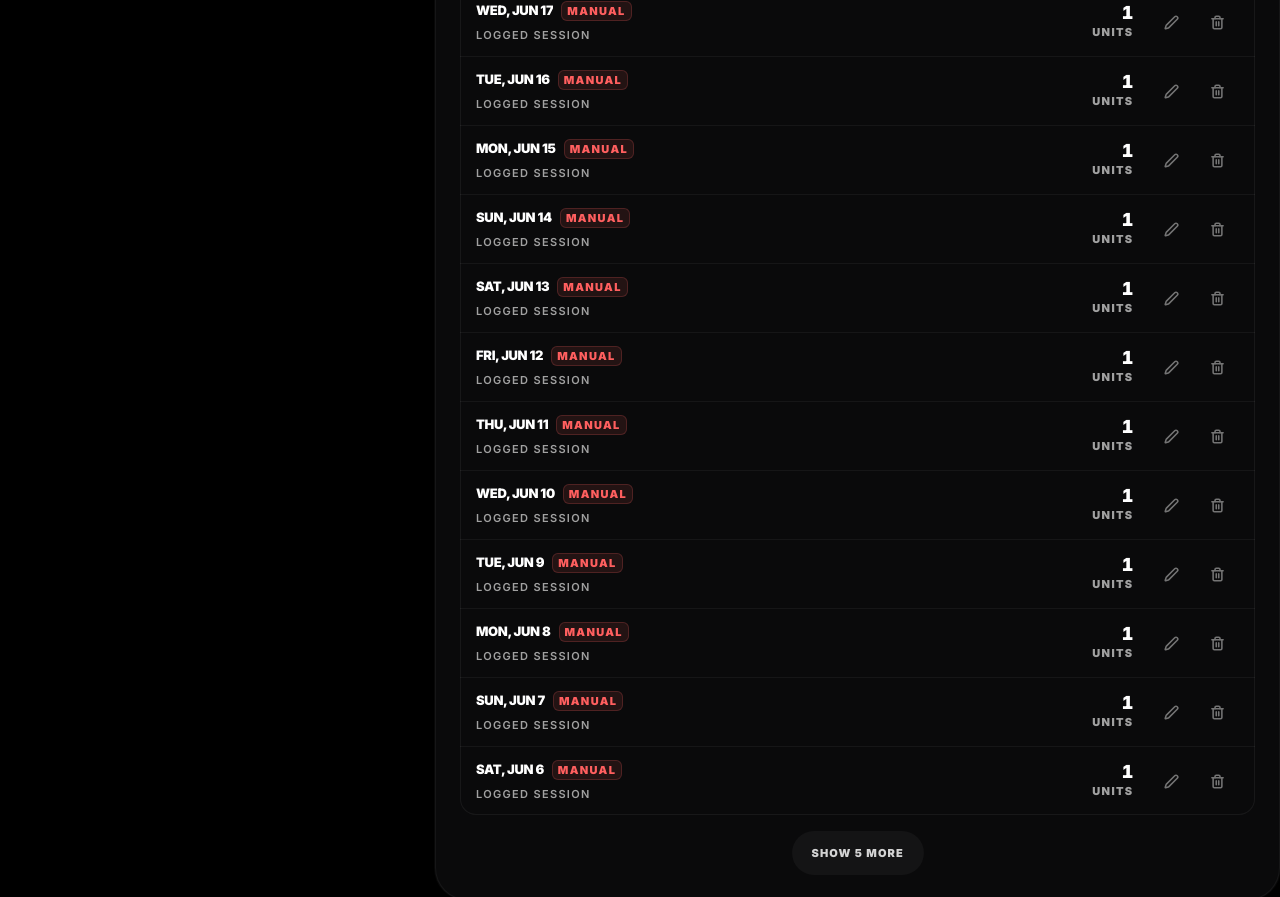
HistoryScreen — session log paging › shows 20 entries in the page flow, then reveals the rest on demand
(page scrolled)
Click the button "Show 5 more".
click(857, 852)  # box [791, 830, 924, 874]
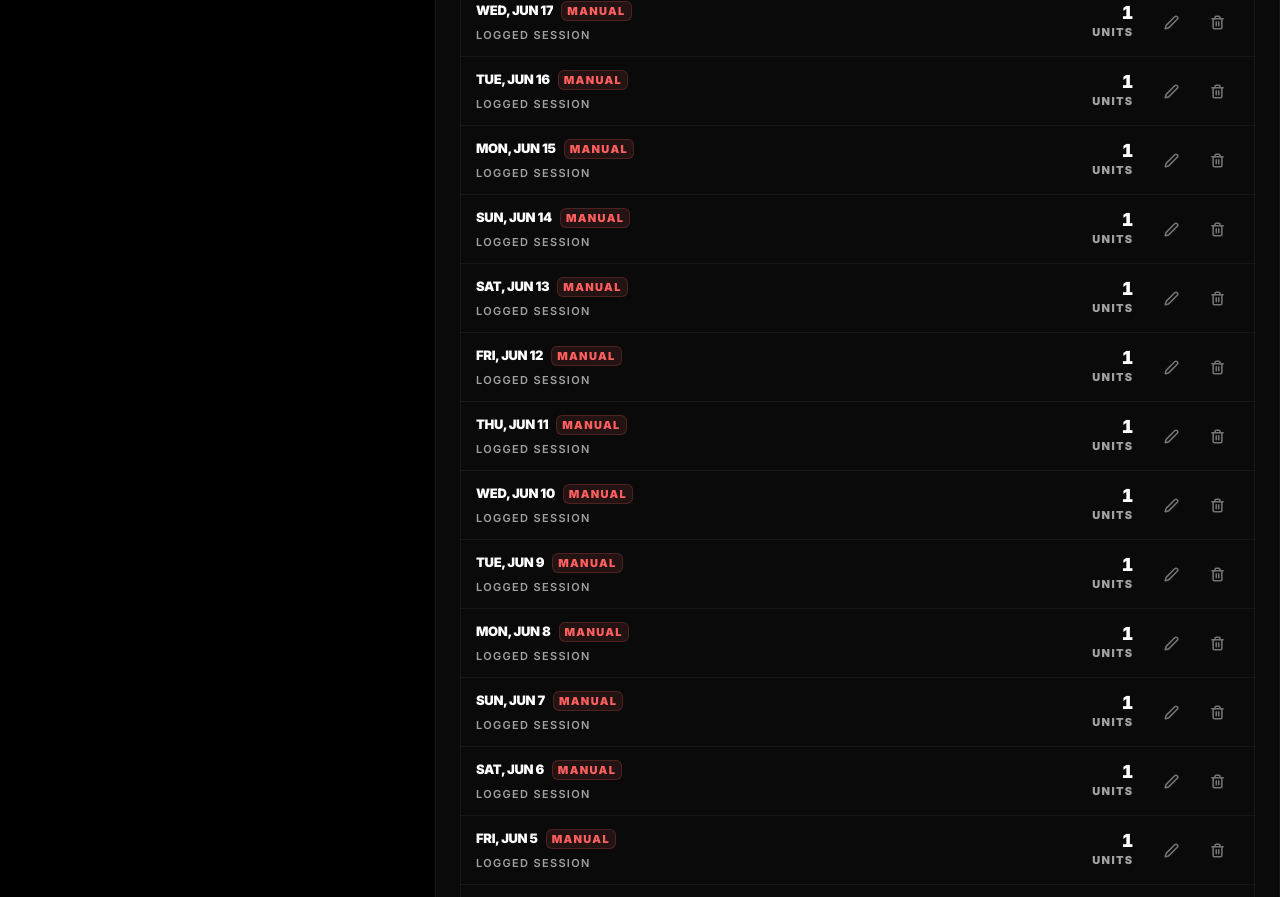
Now the button "Show 5 more" is gone
